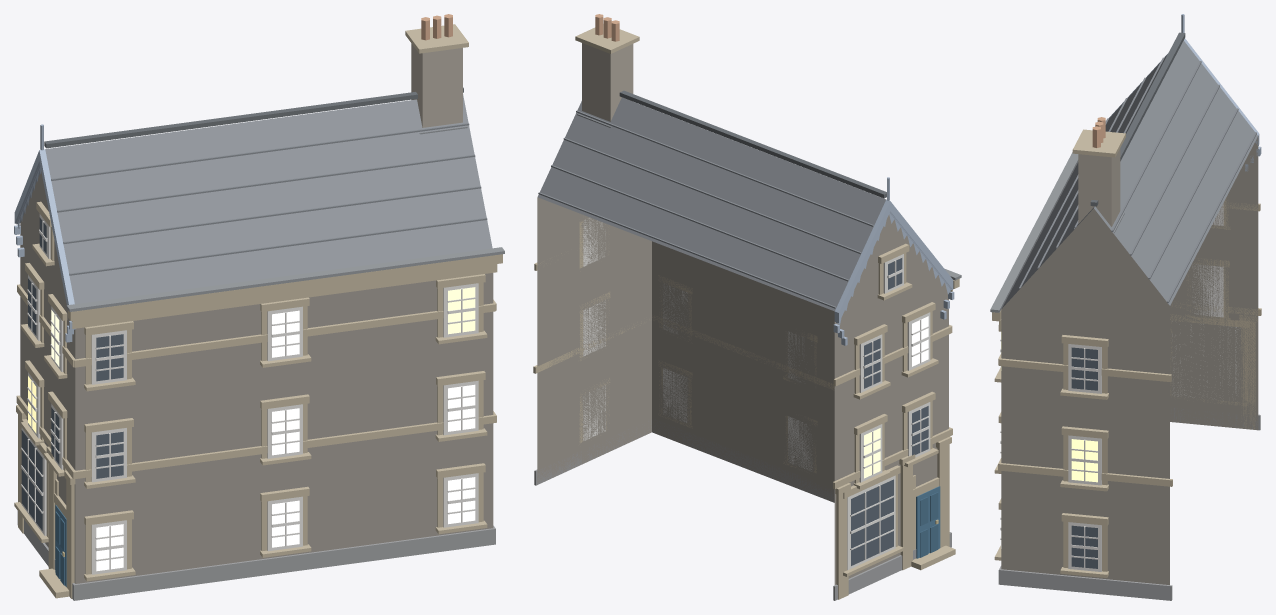
3 renders of one model, left to right at view 1: azimuth 30°, elevation 25°; view 2: azimuth 150°, elevation 25°; view 3: azimuth 270°, elevation 25°, orthographic. The views are drawn at different scales.
Visible parts, largest first — view 1: plaque, slate_lt, ss_joint, windows, frame, plinth, chim_stone, lead, slate_dk, bargeboard_blue; view 2: plaque, slate_lt, ss_joint, frame, windows, plinth, chim_stone, bargeboard_blue, slate_dk, door_blue_p, door_blue; view 3: plaque, slate_lt, ss_joint, frame, plinth, windows, chim_stone, lead, slate_dk, bargeboard_blue.
Part boxes in pixels (left/top/right/bottom): plaque: left=20, top=171, right=493, bottom=583; slate_lt: left=45, top=94, right=492, bottom=303; ss_joint: left=14, top=24, right=502, bottom=598; windows: left=21, top=217, right=475, bottom=571; frame: left=21, top=214, right=478, bottom=574; plinth: left=17, top=511, right=495, bottom=600; chim_stone: left=411, top=43, right=462, bottom=127; lead: left=66, top=126, right=504, bottom=311; slate_dk: left=44, top=87, right=463, bottom=148; bargeboard_blue: left=14, top=124, right=75, bottom=342; plaque: left=537, top=197, right=948, bottom=584; slate_lt: left=537, top=97, right=885, bottom=311; ss_joint: left=533, top=24, right=959, bottom=599; frame: left=583, top=218, right=930, bottom=570; windows: left=851, top=258, right=928, bottom=565; plinth: left=534, top=419, right=951, bottom=600; chim_stone: left=582, top=43, right=633, bottom=121; bargeboard_blue: left=833, top=177, right=954, bottom=345; slate_dk: left=619, top=90, right=886, bottom=198; door_blue_p: left=920, top=492, right=938, bottom=557; door_blue: left=916, top=486, right=940, bottom=558; plaque: left=1001, top=136, right=1258, bottom=584; slate_lt: left=1002, top=41, right=1257, bottom=308; ss_joint: left=992, top=129, right=1261, bottom=577; frame: left=1000, top=203, right=1240, bottom=571; plinth: left=998, top=408, right=1260, bottom=600; windows: left=1001, top=332, right=1097, bottom=568; chim_stone: left=1078, top=148, right=1120, bottom=226; lead: left=990, top=152, right=1124, bottom=312; slate_dk: left=1090, top=32, right=1185, bottom=206; bargeboard_blue: left=1109, top=14, right=1261, bottom=171.
Size of the model in its own units: 12.66 by 14.03 by 7.52.
